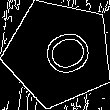O_SW: (26, 23, 91, 83)
